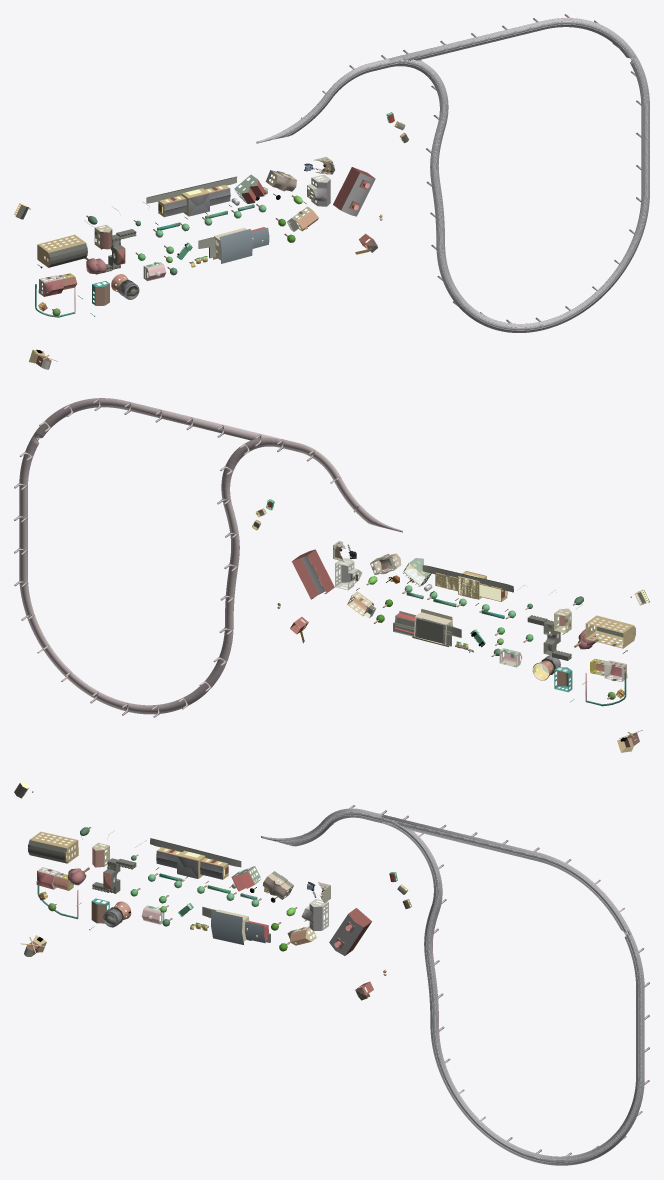
The model's file is background-3d.gltf.
3 views of the same model, one above another, from view 1: azimuth 30°, elevation 25°; view 2: azimuth 150°, elevation 25°; view 3: azimuth 330°, elevation 25° (orthographic).
Parts seen in each view (by area): view 1: upper_track_bed, upper_track_sleepers, upper_track_deck, upper_track_rails, asset9_copy12, Cube42 (×2), Cube40, Cube41_sep44, Cube47, Cube50, Cube52_sep53; view 2: upper_track_deck, Cube42 (×2), Cube40, asset9_copy12, upper_track_portals, Cube41_sep44, Cube50, Cube47; view 3: upper_track_bed, upper_track_sleepers, upper_track_deck, upper_track_rails, asset9_copy12, Cube42 (×2), Cube40, Cube41_sep44, Cube50, Cube47.
Boxes of the visible parts, x1=… form: upper_track_bed: x1=256, y1=19, x2=649, y2=332; upper_track_sleepers: x1=271, y1=20, x2=648, y2=330; upper_track_deck: x1=256, y1=18, x2=649, y2=332; upper_track_rails: x1=271, y1=21, x2=647, y2=330; asset9_copy12: x1=146, y1=176, x2=237, y2=217; Cube42 (×2): x1=96, y1=167, x2=375, y2=274; Cube40: x1=198, y1=227, x2=269, y2=263; Cube41_sep44: x1=37, y1=234, x2=87, y2=267; Cube47: x1=38, y1=273, x2=77, y2=296; Cube50: x1=307, y1=174, x2=330, y2=206; Cube52_sep53: x1=234, y1=174, x2=264, y2=203; upper_track_deck: x1=19, y1=398, x2=402, y2=714; Cube42 (×2): x1=292, y1=549, x2=571, y2=660; Cube40: x1=393, y1=609, x2=461, y2=646; asset9_copy12: x1=422, y1=565, x2=513, y2=601; upper_track_portals: x1=14, y1=398, x2=359, y2=717; Cube41_sep44: x1=585, y1=615, x2=635, y2=648; Cube50: x1=335, y1=558, x2=362, y2=590; Cube47: x1=590, y1=659, x2=627, y2=681; upper_track_bed: x1=261, y1=809, x2=643, y2=1164; upper_track_sleepers: x1=276, y1=811, x2=641, y2=1163; upper_track_deck: x1=261, y1=808, x2=644, y2=1165; upper_track_rails: x1=275, y1=812, x2=641, y2=1163; asset9_copy12: x1=150, y1=838, x2=241, y2=879; Cube42 (×2): x1=92, y1=858, x2=371, y2=955; Cube40: x1=202, y1=906, x2=270, y2=944; Cube41_sep44: x1=28, y1=831, x2=78, y2=863; Cube50: x1=301, y1=899, x2=328, y2=931; Cube47: x1=36, y1=867, x2=73, y2=890.
Size of what is drawn, in the model's own units: 1.48 by 0.6898 by 0.0737.
